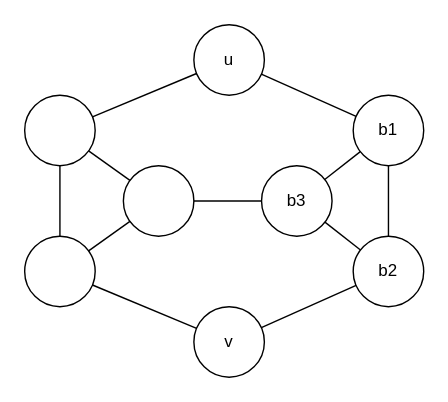
Image size: 448x402. Some labels were removed from this diagram. The shapes that lost their labels are listed below. From the top down, each one's centre as x and y in pixels, then its label:
the point at 59,130: a1
the point at 158,200: a3
the point at 59,271: a2
